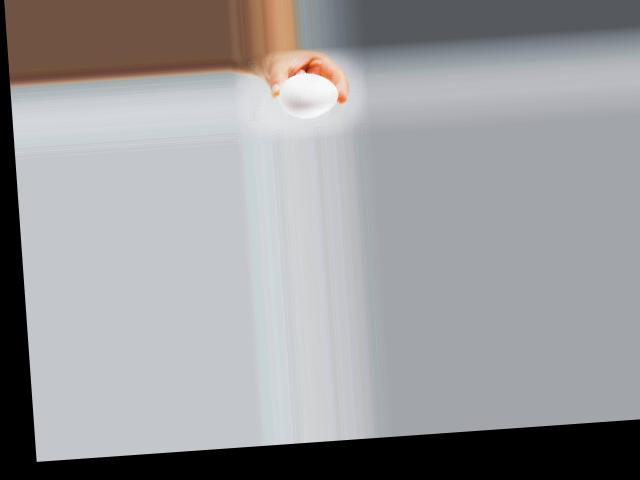egg: (278, 70, 340, 119)
